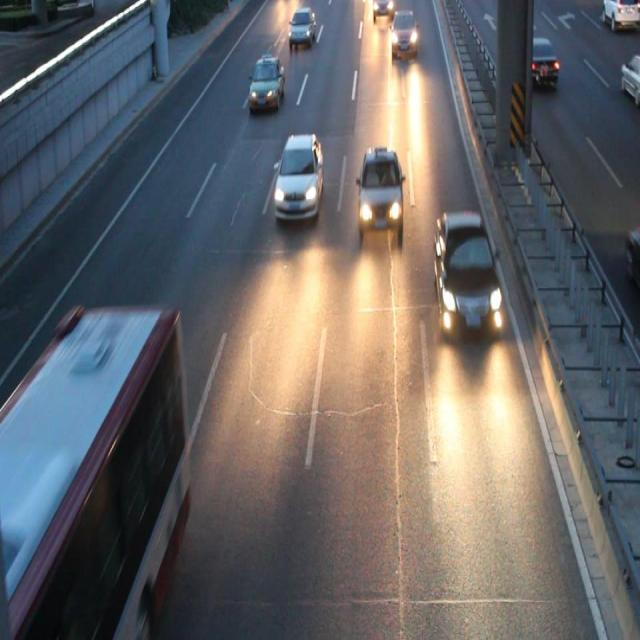car: (433, 213, 500, 332), (273, 134, 323, 216), (356, 148, 402, 231), (514, 35, 555, 85), (249, 59, 283, 107), (387, 10, 417, 56), (619, 51, 640, 102), (624, 227, 640, 289), (288, 9, 315, 42), (372, 1, 393, 20)
van: (0, 304, 188, 640)
